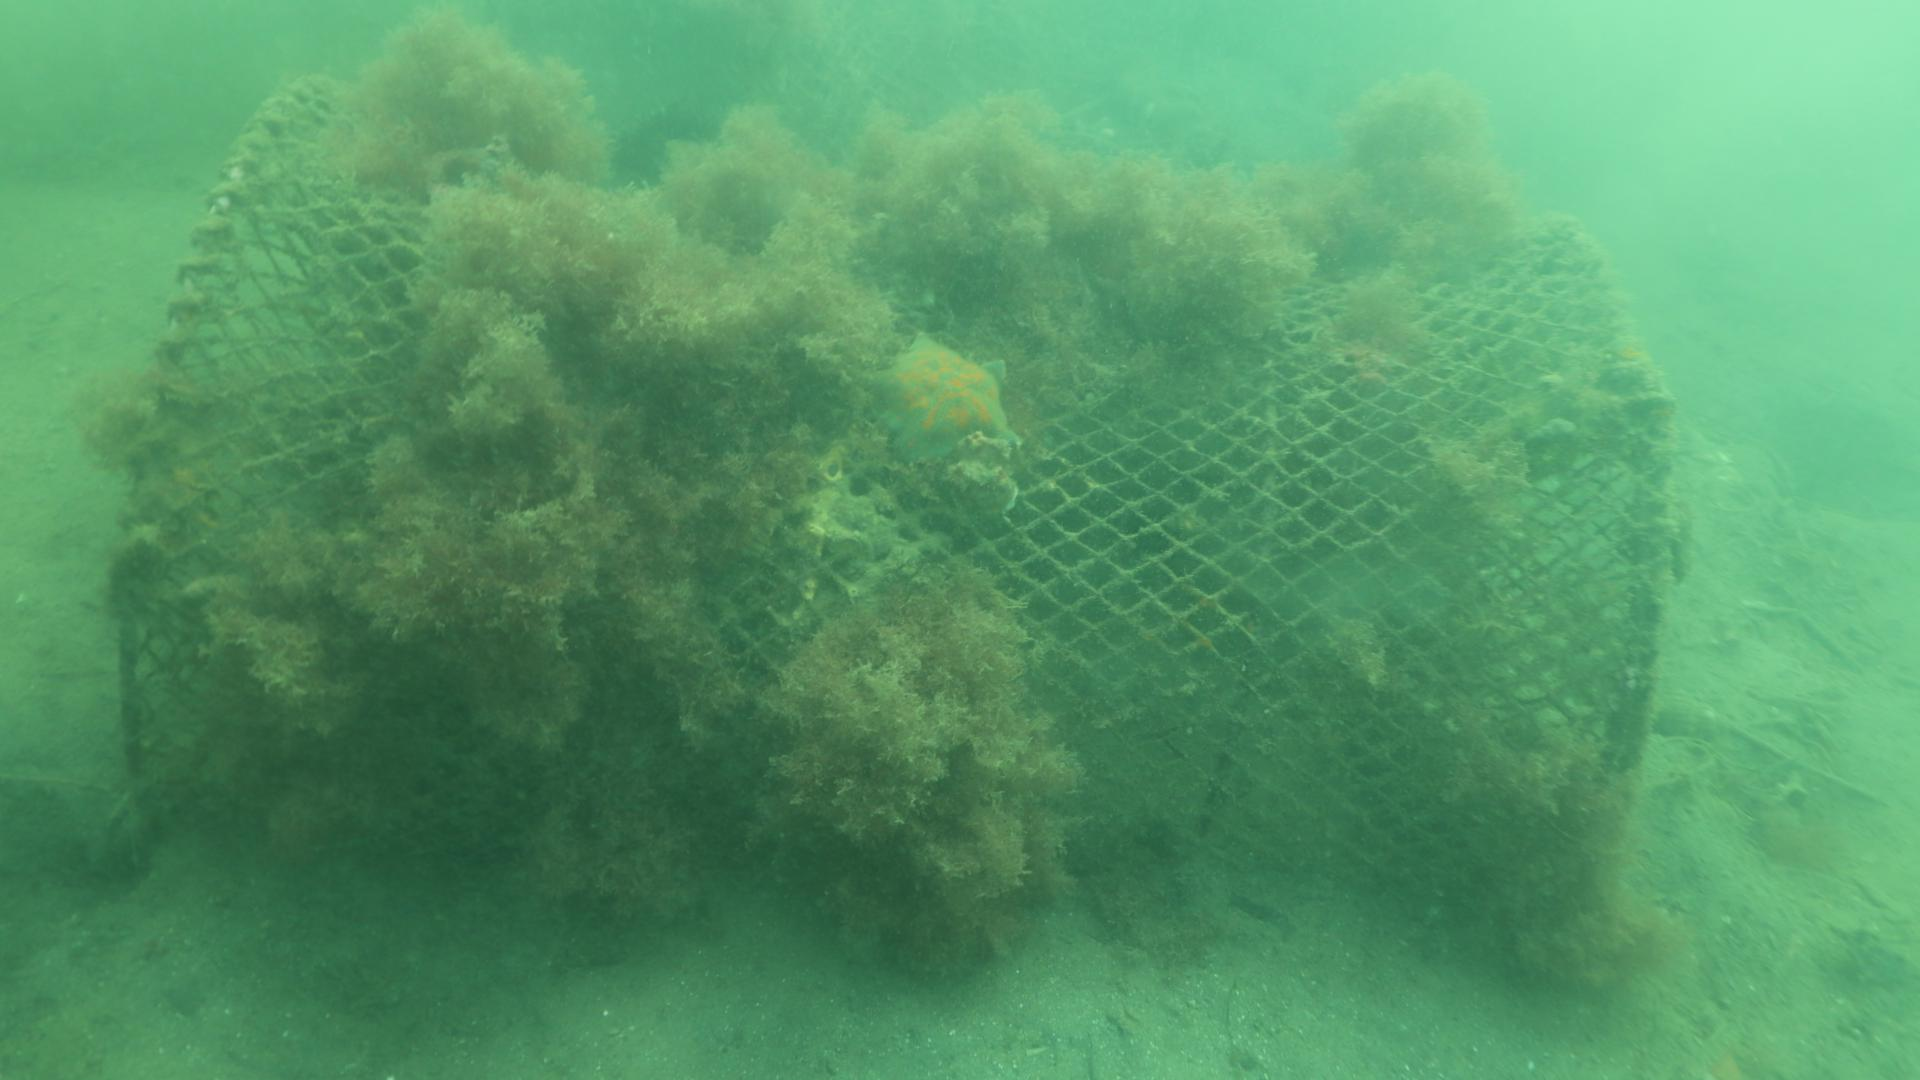spring fish trap: (116, 69, 1679, 971)
